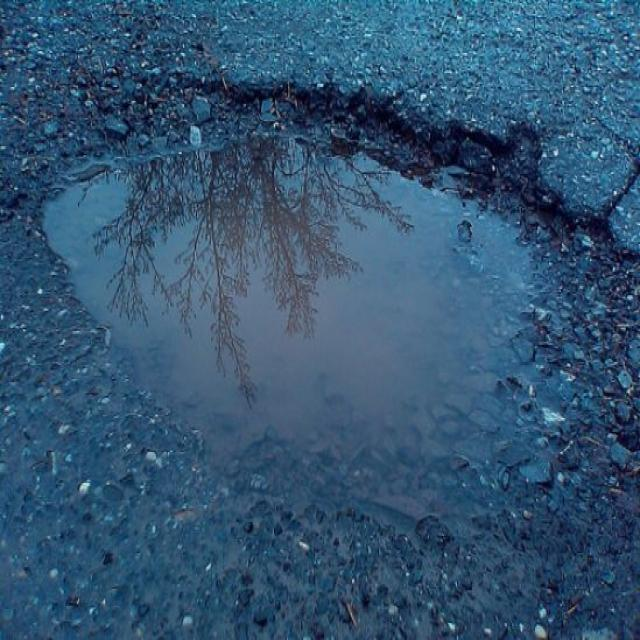Pothole: (29, 71, 624, 497)
